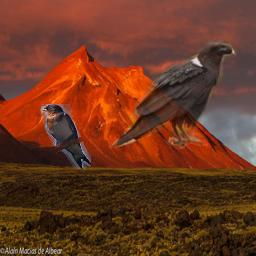Crow: (109, 40, 237, 153)
Swallow: (41, 104, 91, 169)
